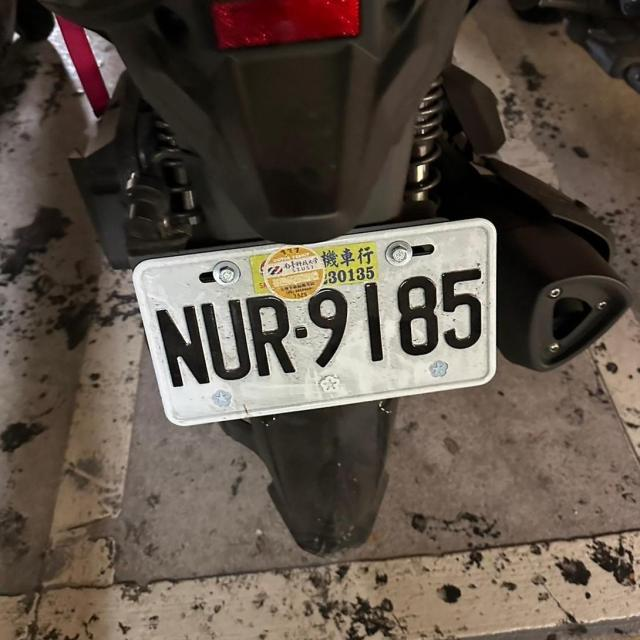W: (125, 216, 509, 436)
